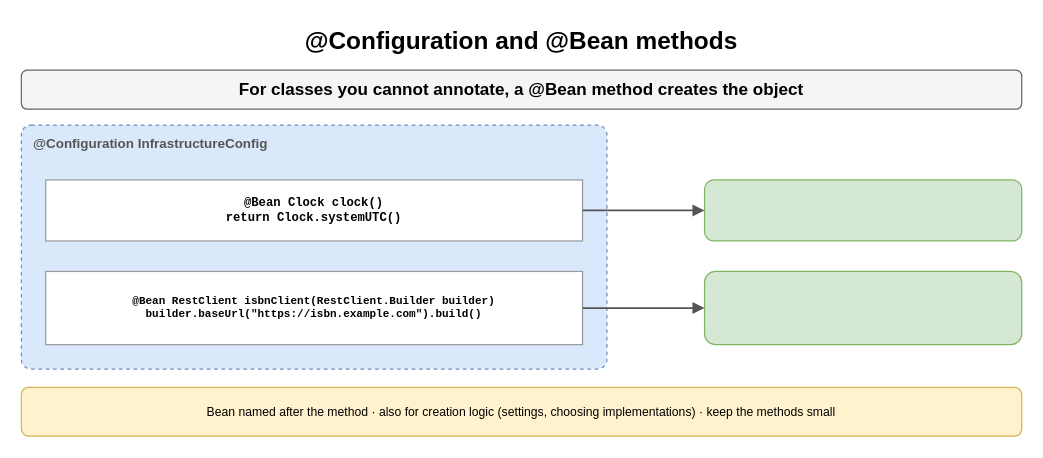
The diagram is 1043 pixels wide and 458 high, and some of its shapes have lost their labels. The shapes that lost their labels are listed below. From the top down, each one's centre as x and y in pixels, then its label:
the point at 862,210: bean "clock"
the point at 862,307: bean "isbnClient" (Builder injected as a parameter)
